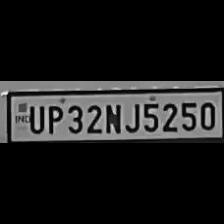0: (197, 99, 217, 131)
2: (84, 100, 103, 134), (159, 100, 177, 132)
3: (64, 100, 84, 134)
5: (138, 100, 160, 132), (178, 99, 198, 131)
J: (122, 100, 140, 132)
N: (102, 100, 122, 134)
P: (45, 102, 63, 134)
U: (24, 102, 43, 134)
